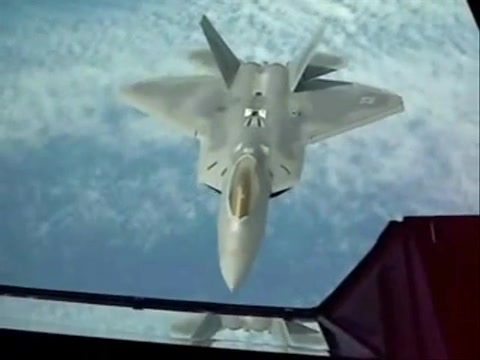aeroplane: (118, 14, 406, 295)
